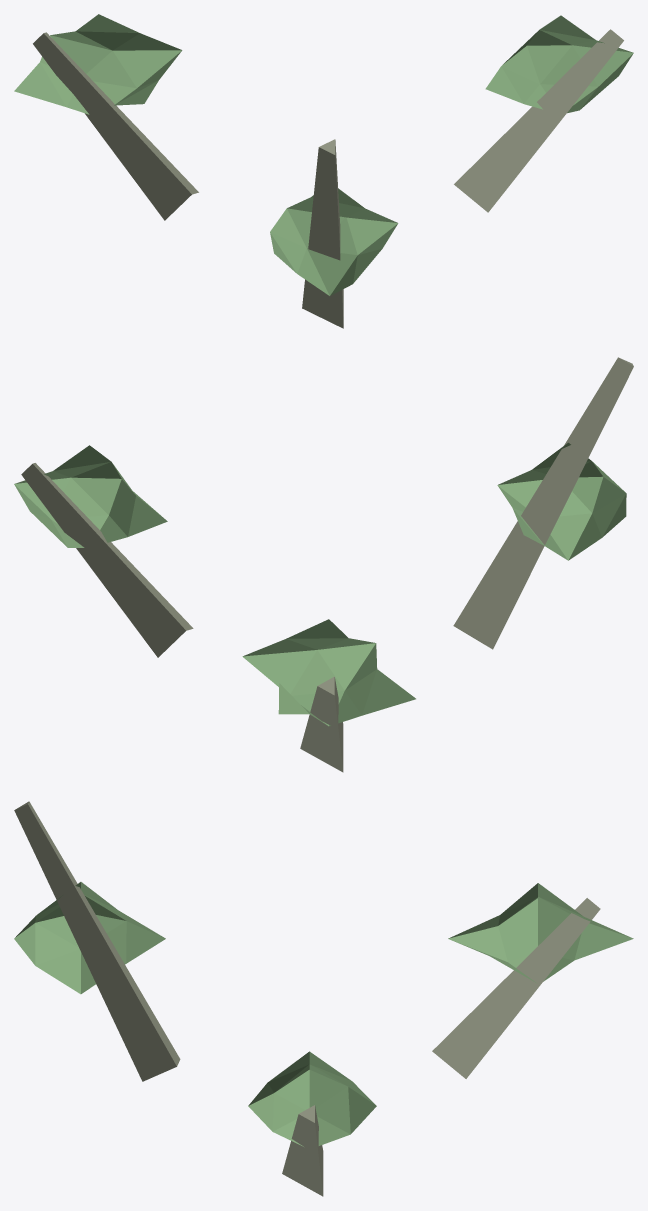
Rendered from bramble_v44.glb.
3 renders of one model, top to bottom at view 1: azimuth 30°, elevation 25°; view 2: azimuth 150°, elevation 25°; view 3: azimuth 270°, elevation 25°, orthographic. The views are drawn at different scales.
Visible parts, largest first — view 1: lod0; view 2: lod0; view 3: lod0.
Boxes of the visible parts, x1,y1,x2,y2 form: lod0: (14,14,633,328); lod0: (14,357,633,772); lod0: (14,801,633,1196).
Size of what is drawn, in the model's own units: 0.5237 by 0.2511 by 0.5638.
